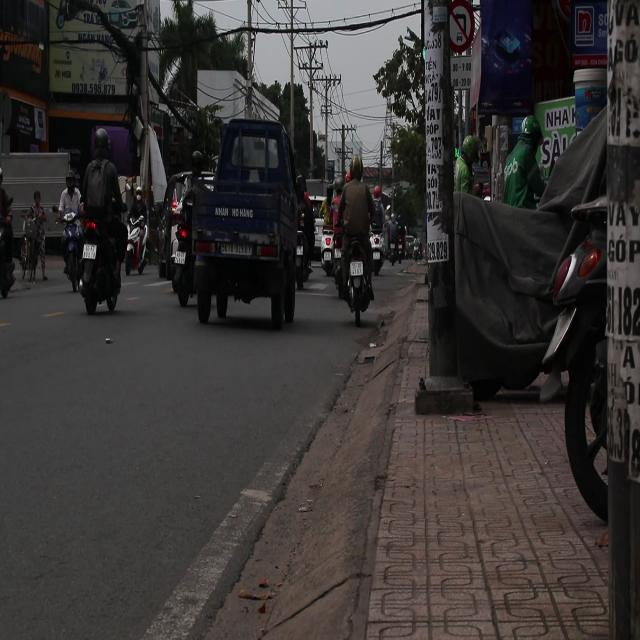motorbike: (335, 222, 377, 350), (79, 221, 127, 316), (294, 178, 318, 306), (124, 209, 153, 293), (59, 213, 86, 298)
truck: (170, 117, 314, 328)
